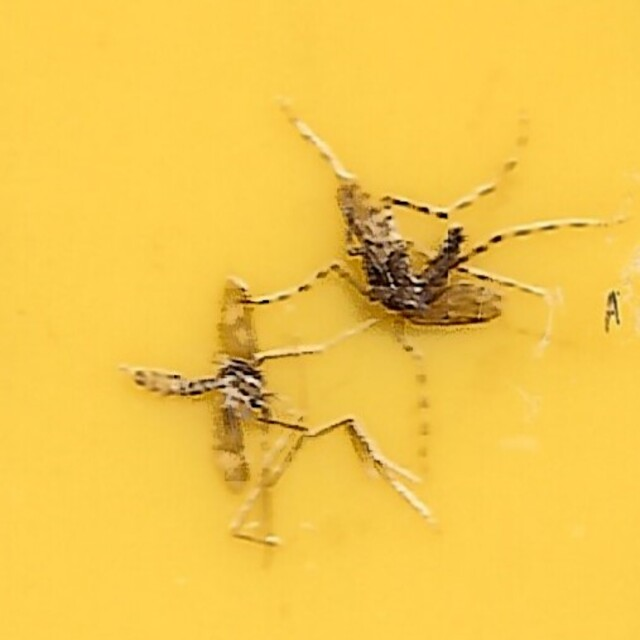Nematocera: (323, 147, 514, 347), (126, 274, 281, 493)
